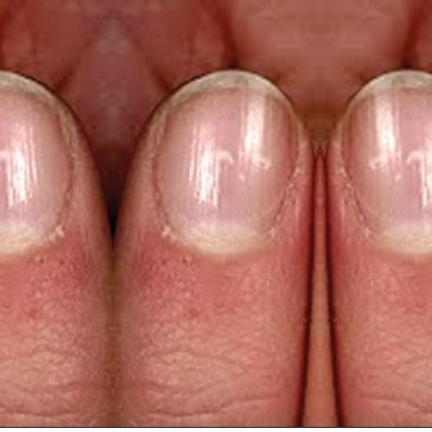Nail: (153, 69, 297, 247), (342, 69, 432, 247), (0, 70, 71, 247)
